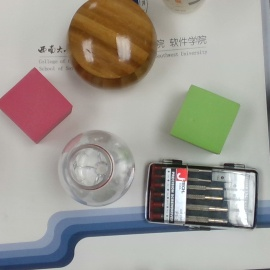bottle: (58, 130, 135, 206)
chess: (66, 1, 160, 89)
